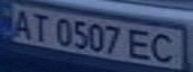0: (51, 15, 75, 47), (84, 20, 106, 53)
5: (69, 17, 90, 51)
7: (103, 24, 127, 56)
A: (6, 7, 36, 39)
C: (148, 30, 184, 64)
E: (124, 26, 157, 61)
T: (24, 10, 54, 43)
